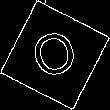O_S: (27, 24, 83, 86)
